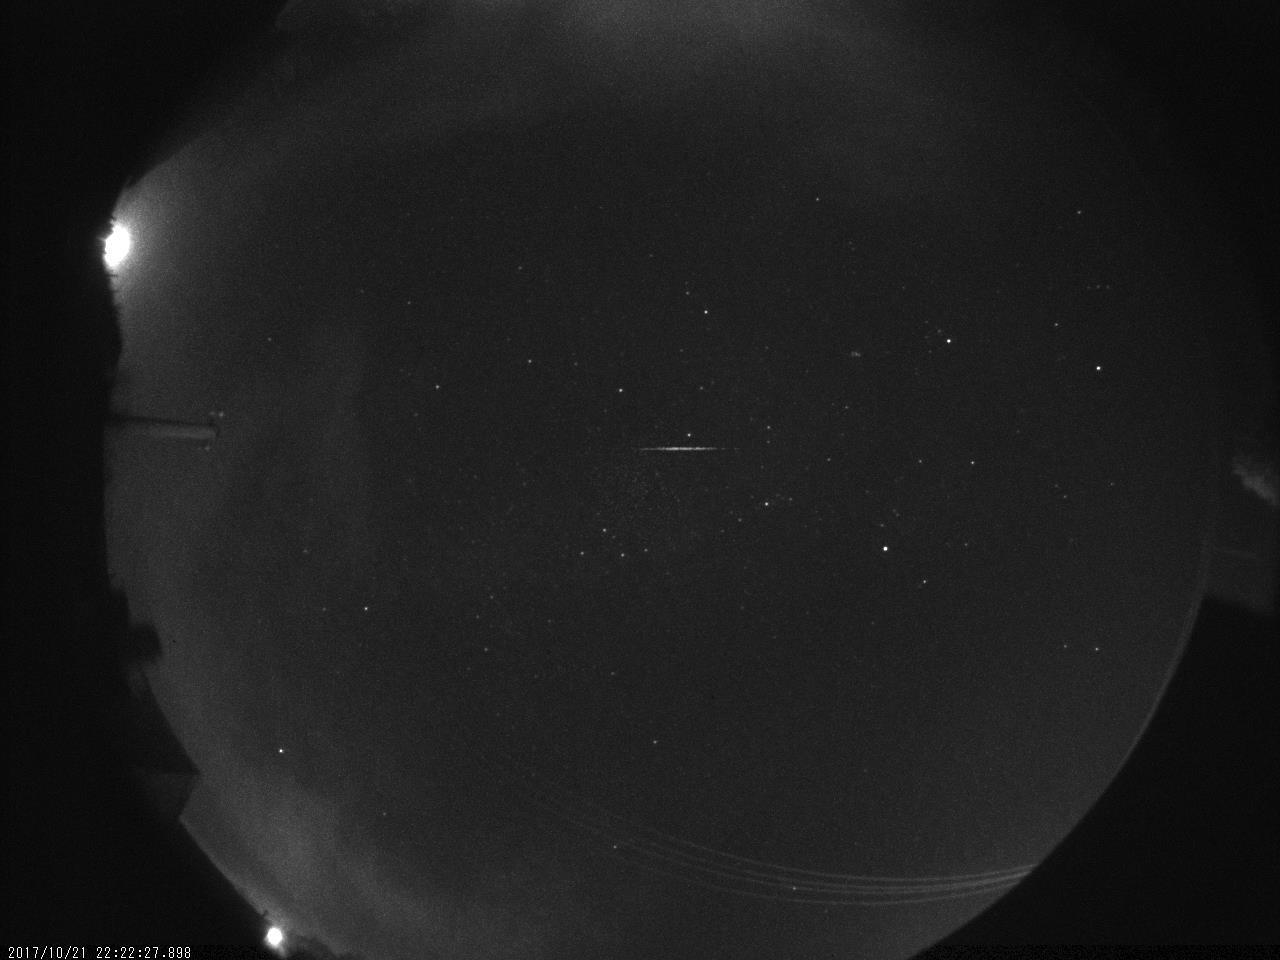Meteor: (635, 441, 726, 455)
